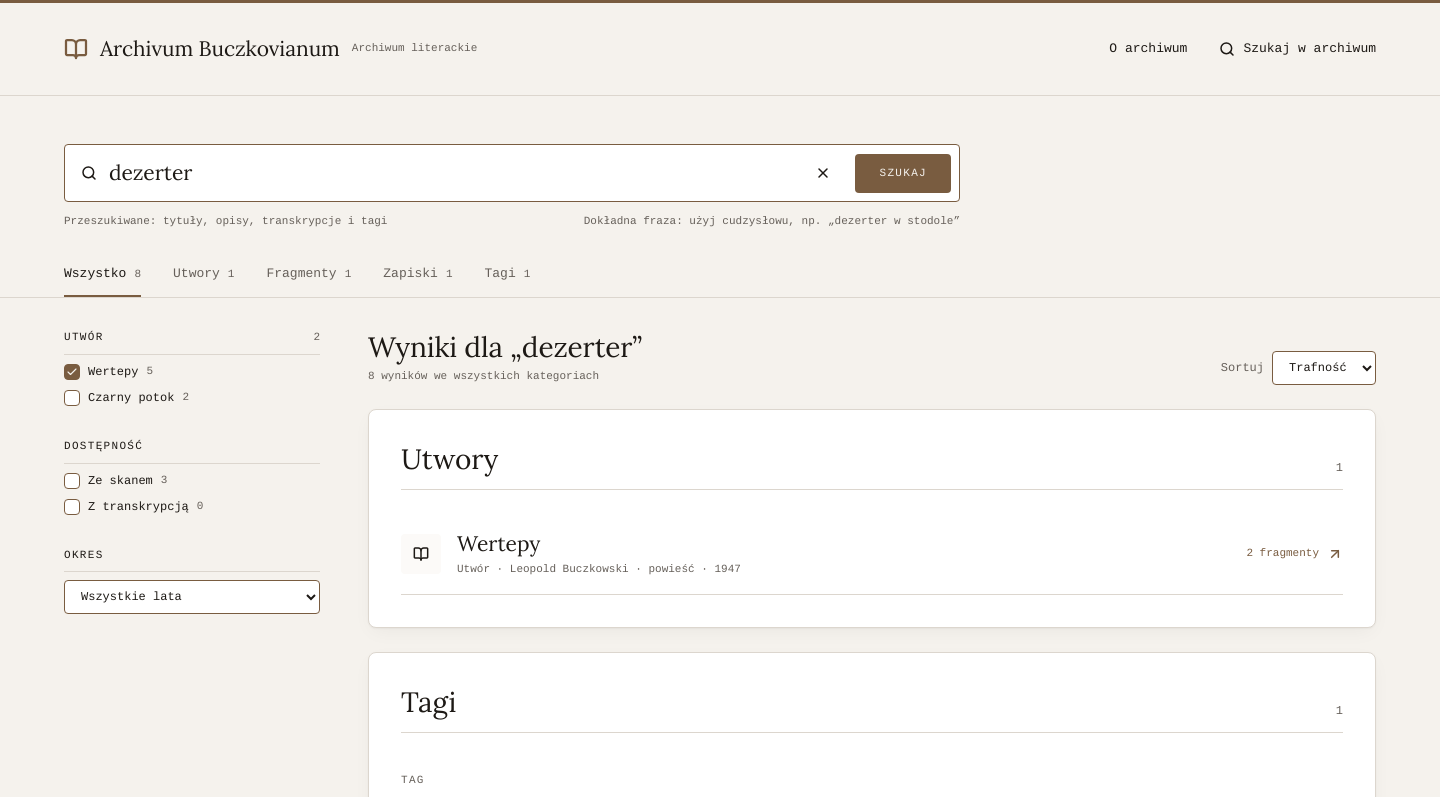
Test: SearchPage tabs and filters › US-RA-16 AC1: a tab shows only its results and keeps the query and filters
This screenshot has width=1440, height=797.
Expected: the text "8 wyników we wszystkich kategoriach" is shown, [368, 370, 599, 382]
Click the link "Utwory 1".
click(204, 274)  # box [173, 266, 234, 281]
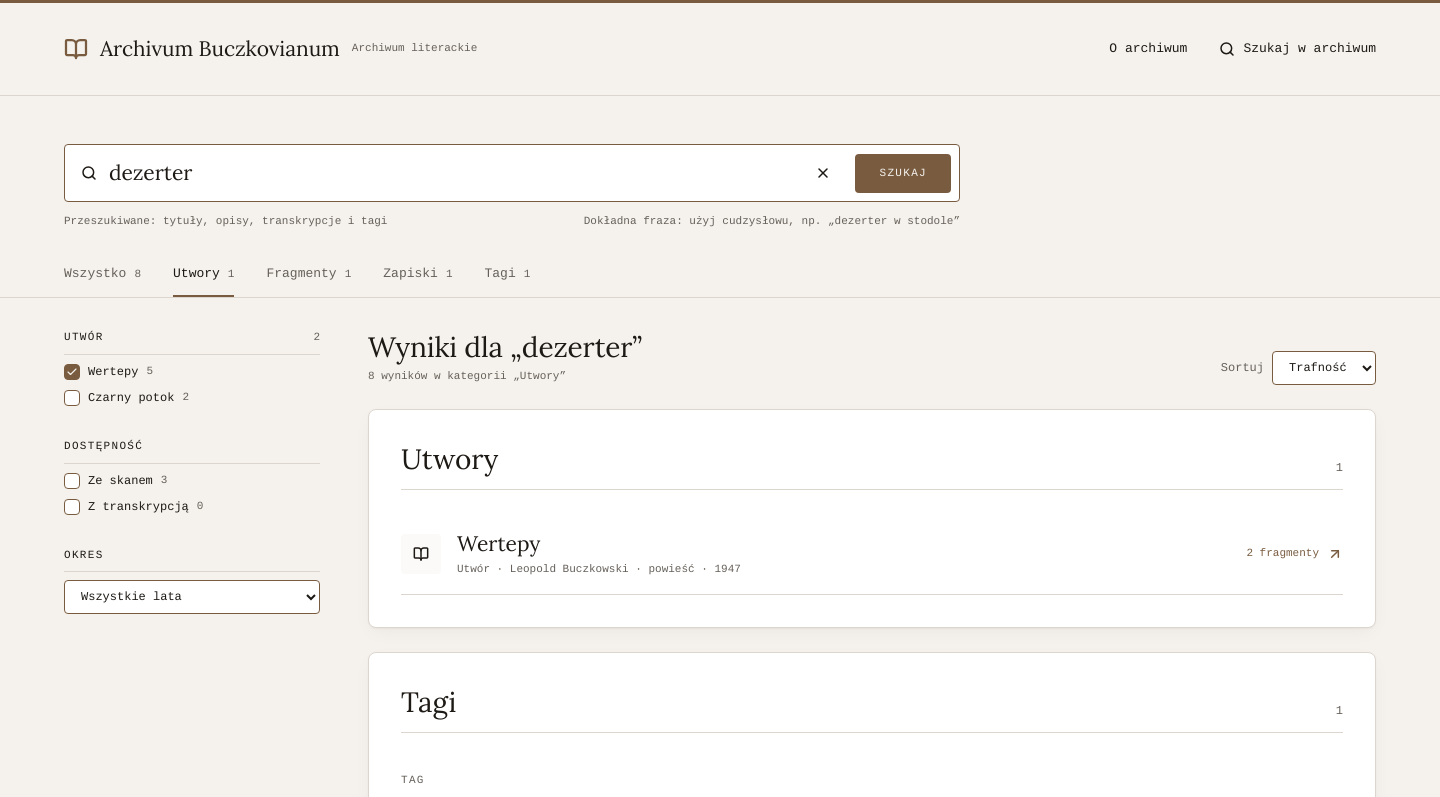
Expected: the text "8 wyników w kategorii „Utwory”" is shown, [368, 370, 566, 382]
